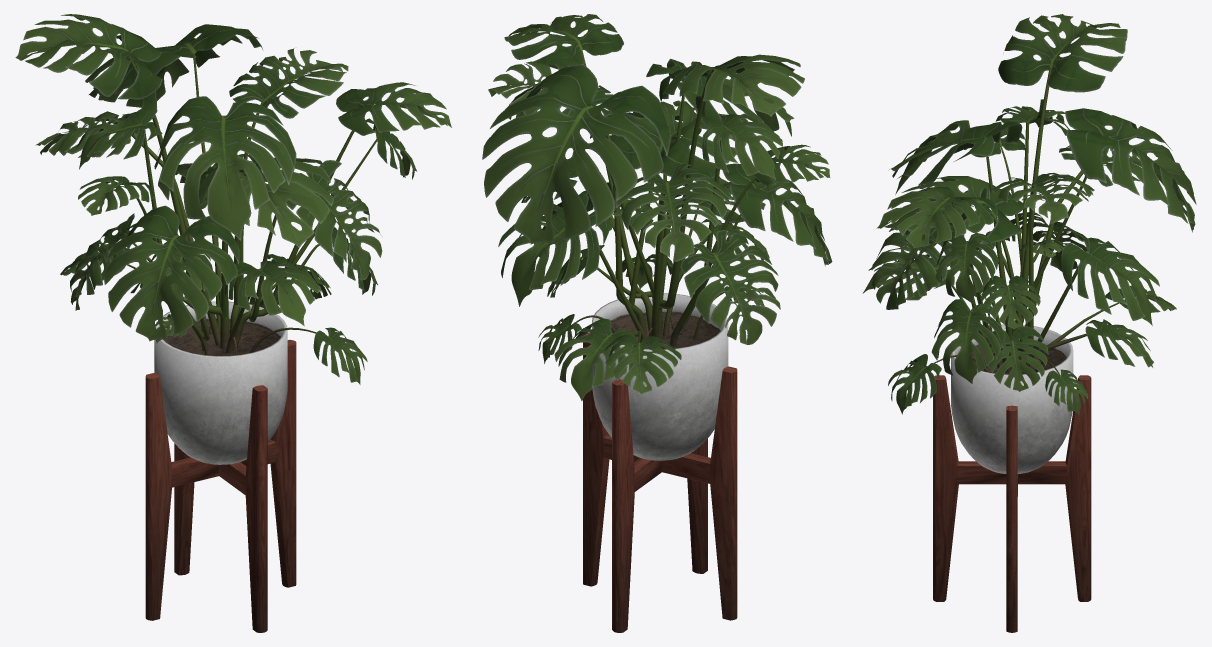
File: monstera.glb
The picture shows the model from 3 angles, left to right: view 1: azimuth 30°, elevation 25°; view 2: azimuth 150°, elevation 25°; view 3: azimuth 270°, elevation 25°; orthographic projection. The views are drawn at different scales.
Visible parts, largest first — view 1: Leaves, Stand, Pot_LP, root_HP_1_Mat.2_0; view 2: Leaves, Stand, Pot_LP, root_HP_1_Mat.2_0; view 3: Leaves, Stand, Pot_LP, root_HP_1_Mat.2_0.
Boxes of the visible parts, x1=… form: Leaves: x1=15, y1=14, x2=451, y2=384; Stand: x1=145, y1=339, x2=296, y2=632; Pot_LP: x1=154, y1=301, x2=287, y2=464; root_HP_1_Mat.2_0: x1=124, y1=53, x2=376, y2=355; Leaves: x1=482, y1=14, x2=832, y2=400; Stand: x1=583, y1=332, x2=737, y2=632; Pot_LP: x1=592, y1=293, x2=728, y2=460; root_HP_1_Mat.2_0: x1=559, y1=50, x2=755, y2=346; Leaves: x1=862, y1=14, x2=1196, y2=414; Stand: x1=933, y1=375, x2=1091, y2=632; Pot_LP: x1=951, y1=324, x2=1073, y2=473; root_HP_1_Mat.2_0: x1=933, y1=68, x2=1119, y2=375.
Bounding box in the file's own units: 0.8307 × 1.3 × 0.7558.
Materials: 3 (3 with a texture image).
